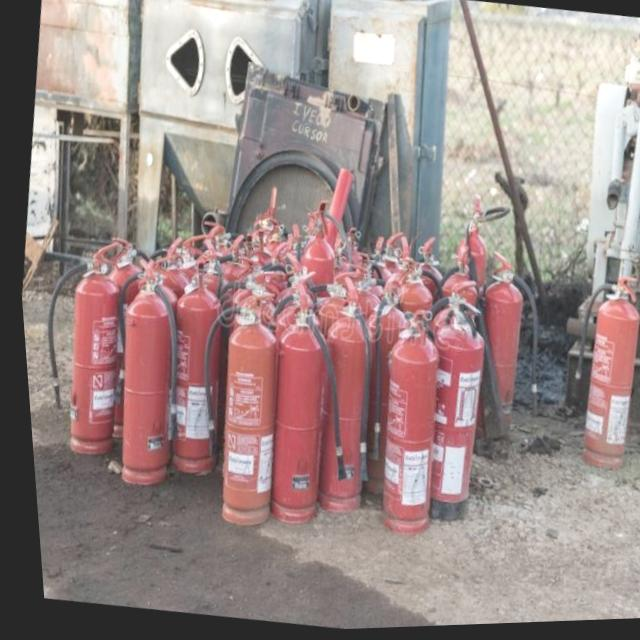FireExtinguisher: (167, 280, 294, 538), (16, 230, 143, 467), (238, 271, 350, 536), (425, 192, 534, 449), (386, 289, 499, 532), (88, 248, 201, 491), (292, 276, 399, 526), (263, 194, 367, 447), (138, 247, 243, 487), (325, 261, 425, 508), (353, 305, 454, 545), (368, 233, 462, 483), (401, 240, 495, 477), (357, 252, 450, 486), (451, 248, 555, 456), (546, 271, 640, 481)
